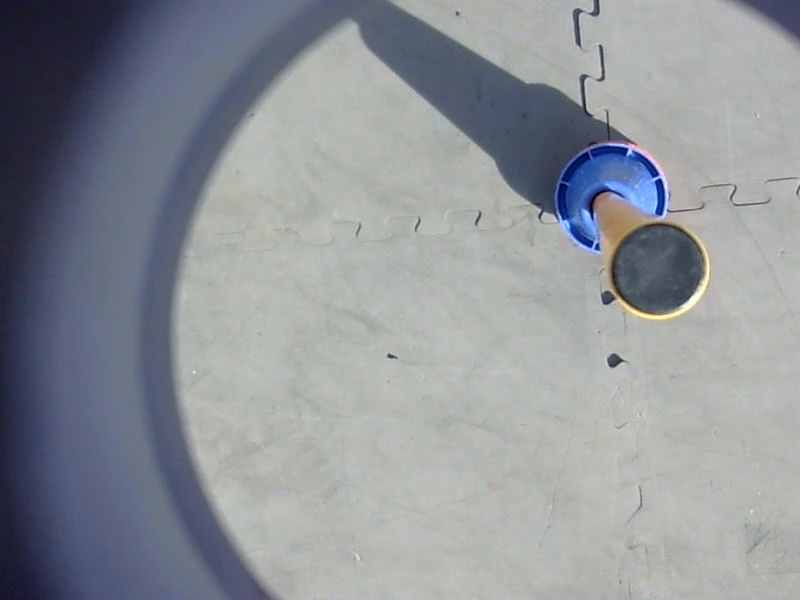tip: (603, 216, 715, 328)
